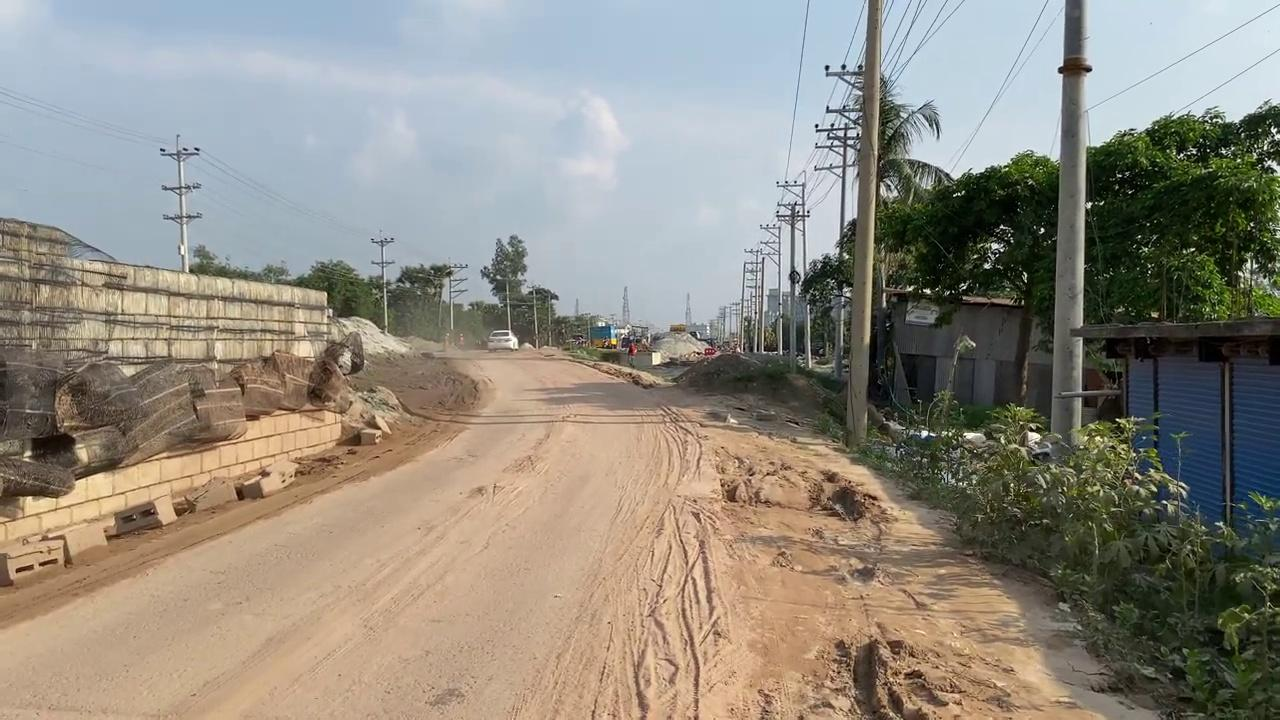Car: (486, 329, 519, 351)
Muddy road: (1, 342, 1161, 718)
Obstacle: (0, 535, 68, 586), (103, 493, 178, 537)
Pole: (1048, 0, 1091, 459), (843, 0, 882, 451)
Traffic-sign: (479, 233, 528, 332)
Upstairs: (0, 215, 355, 576)
